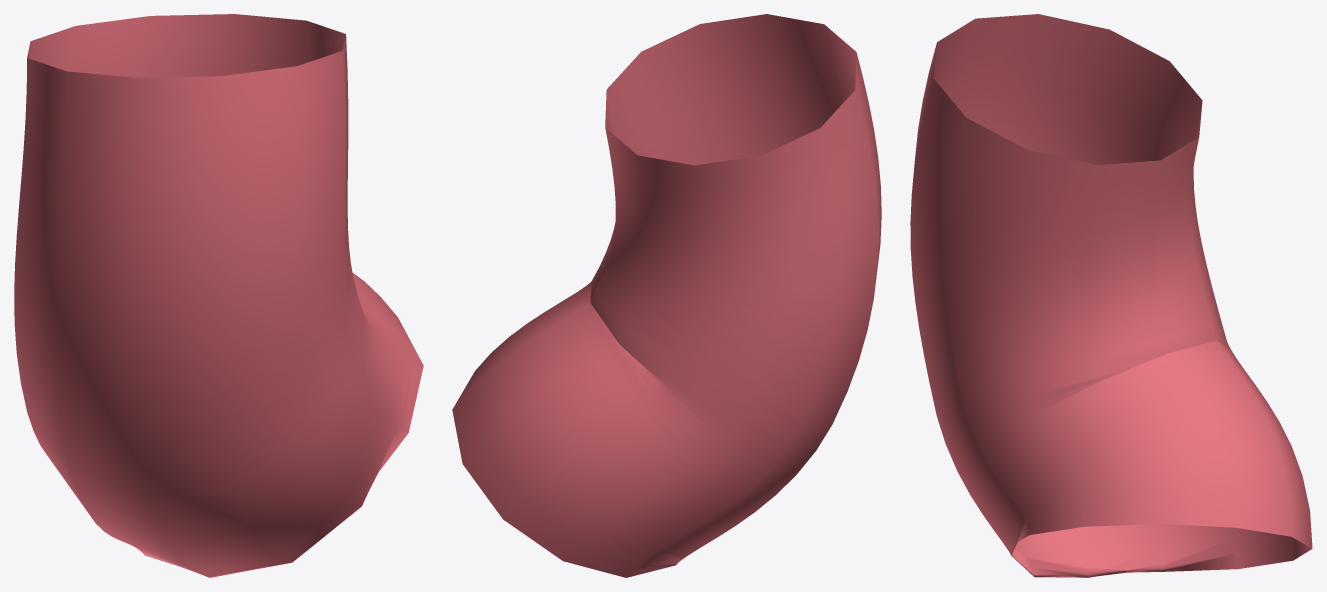
3 views of the same model, side by side, from view 1: azimuth 30°, elevation 25°; view 2: azimuth 150°, elevation 25°; view 3: azimuth 270°, elevation 25° (orthographic). The views are drawn at different scales.
Parts seen in each view (by area): view 1: ZA_0951512788380776; view 2: ZA_0951512788380776; view 3: ZA_0951512788380776.
Part boxes in pixels (x1,y1,x2,y2): ZA_0951512788380776: (14, 14, 423, 577); ZA_0951512788380776: (452, 14, 881, 577); ZA_0951512788380776: (910, 14, 1312, 577).
Size of the model in its own units: 0.0416 by 0.0555 by 0.0399.
